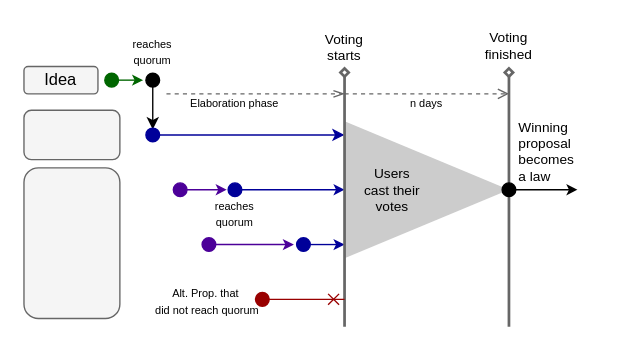
Image size: 619x359. Some labels were removed from this diagram. Each missing label, with the centre of its shape:
"Alternative Proposals" goes at point 71,242.
"Initial Proposal" goes at point 71,134.
